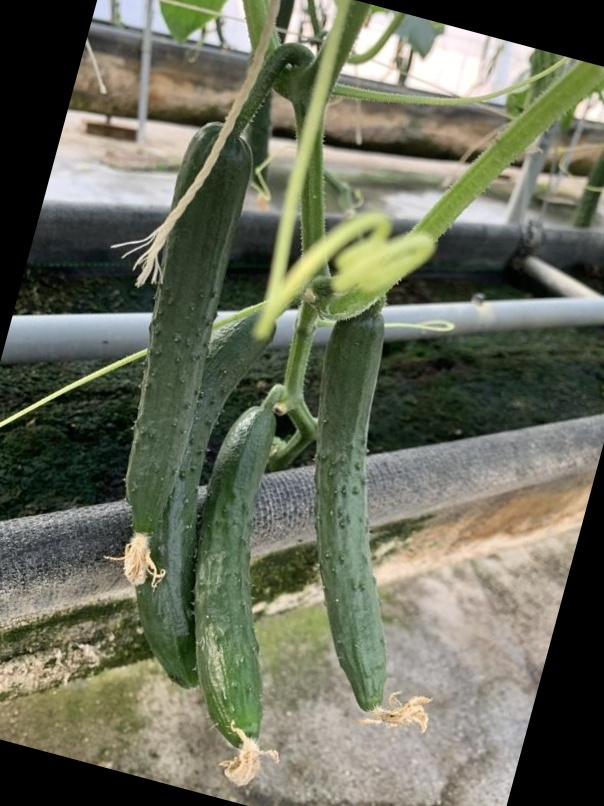mature: (113, 127, 248, 564), (312, 307, 398, 732), (192, 402, 280, 758)
